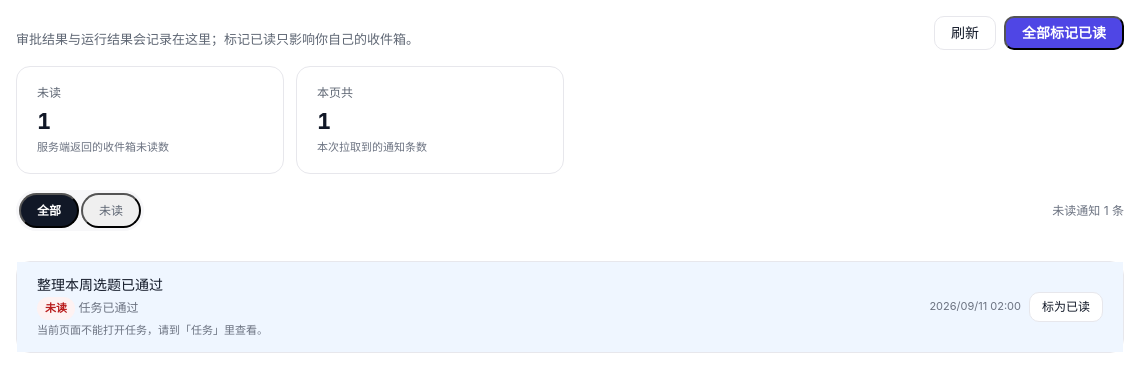
InboxPage › marks a single notification as read when clicked
The width and height of the screenshot is (1141, 370).
Check: the text "整理本周选题已通过" is shown, box [37,276,163,293]
Click the button "标为已读". click: (1066, 307)
box: [1029,292,1103,322]
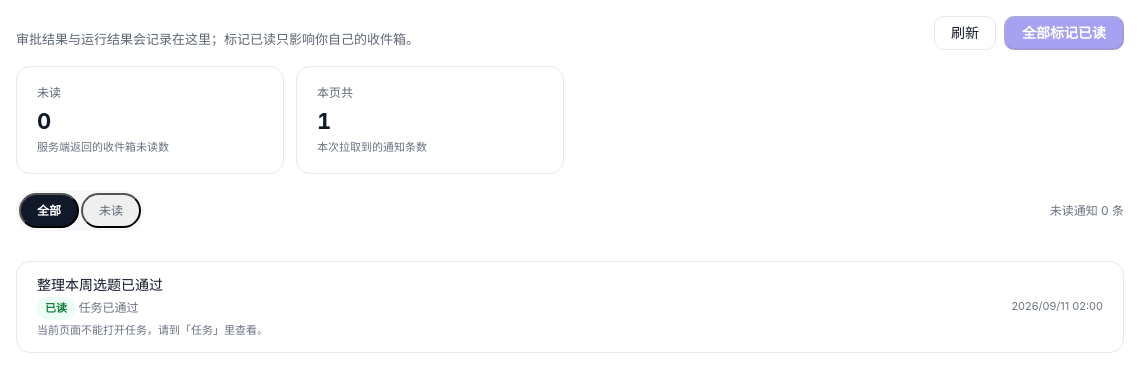
Check: the text "已读" is shown, box [37,296,75,320]
